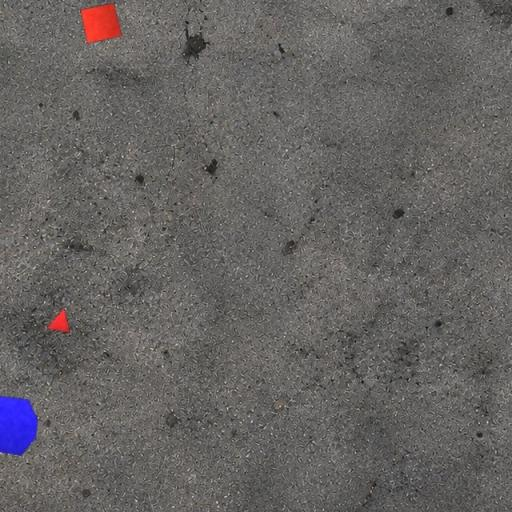RED_SQUARE: (80, 2, 123, 44)
